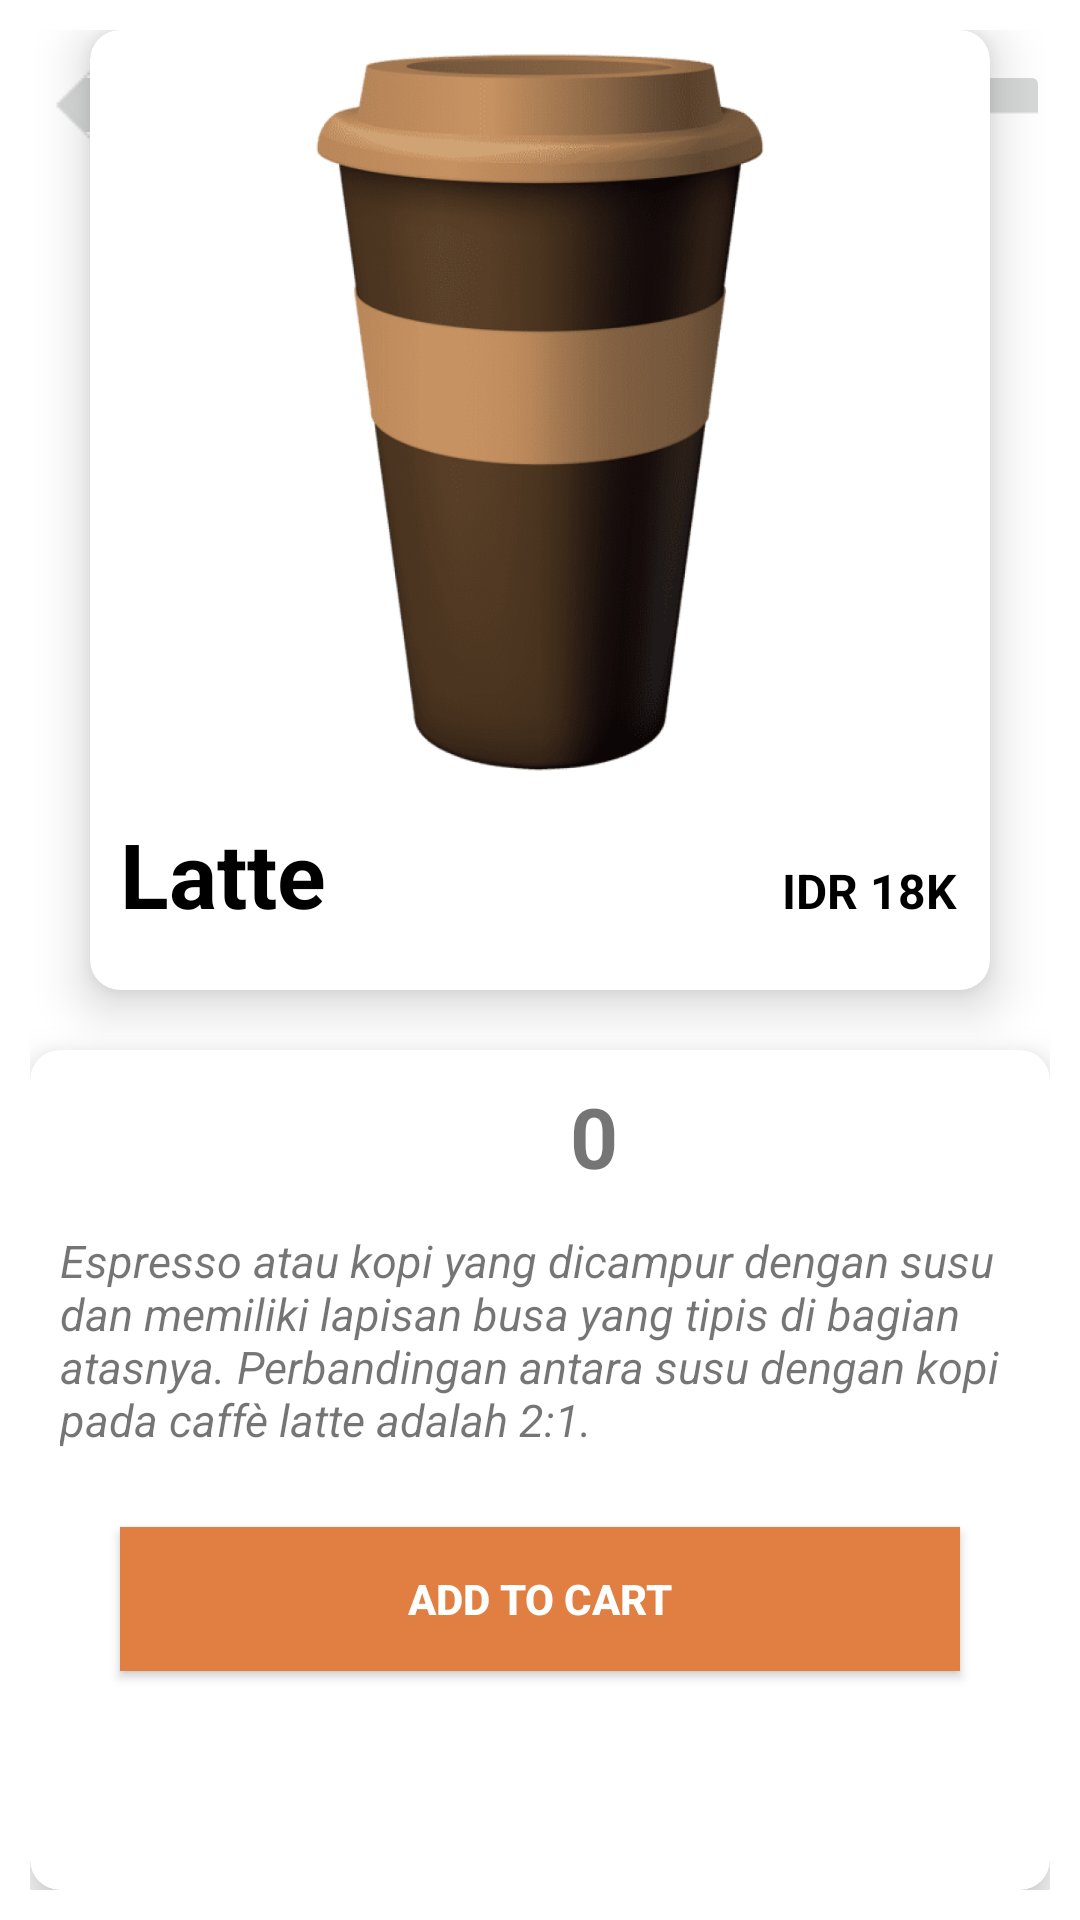

Icons on this 1080*1920 Android screen, each with the point to tap as [x,y]:
panah: [73,105]
